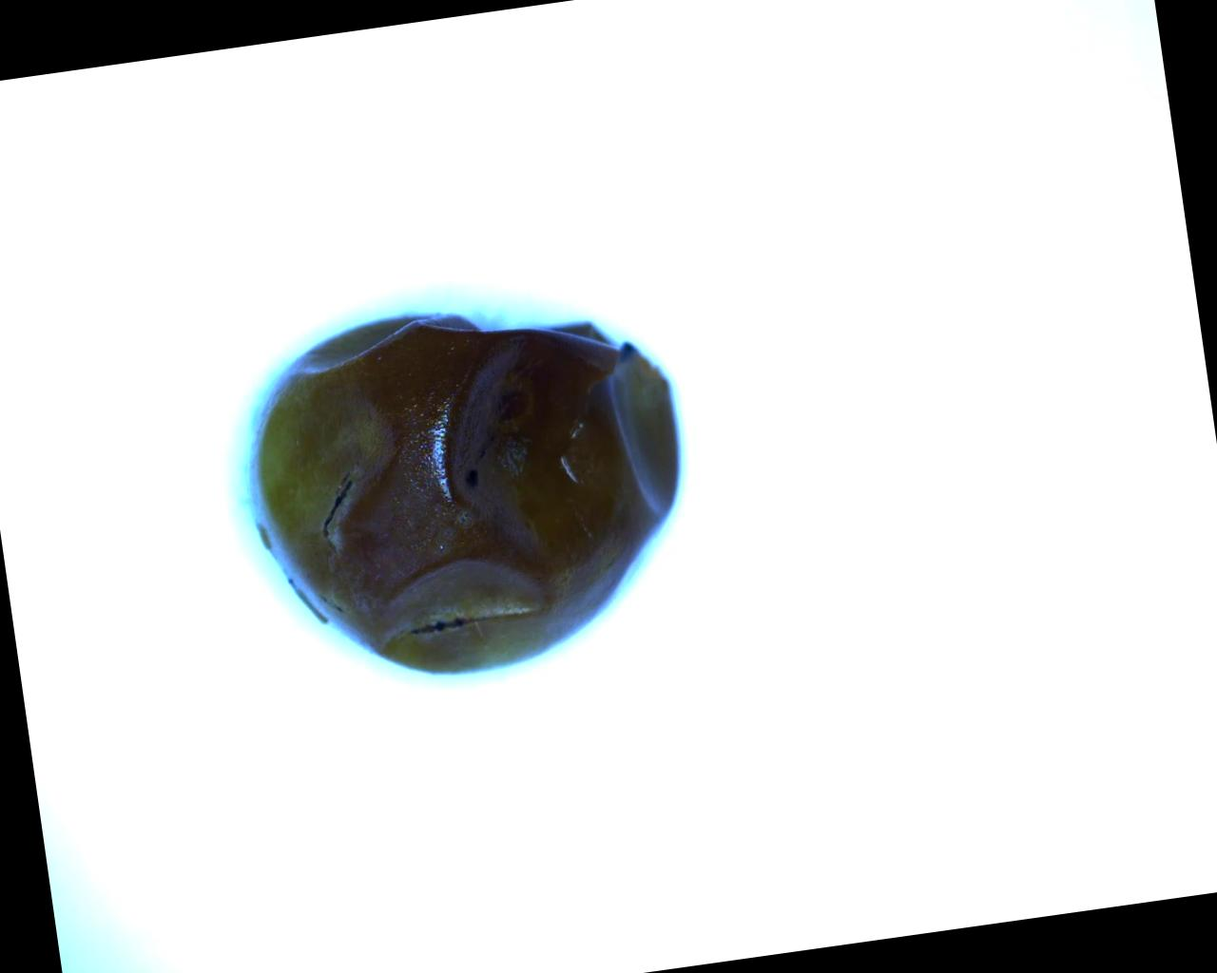Grape Rotten: (224, 276, 710, 702)
